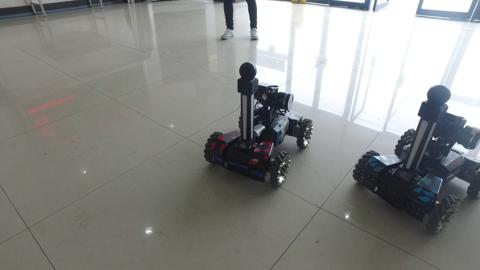chariot: (348, 74, 479, 241), (197, 62, 317, 193)
